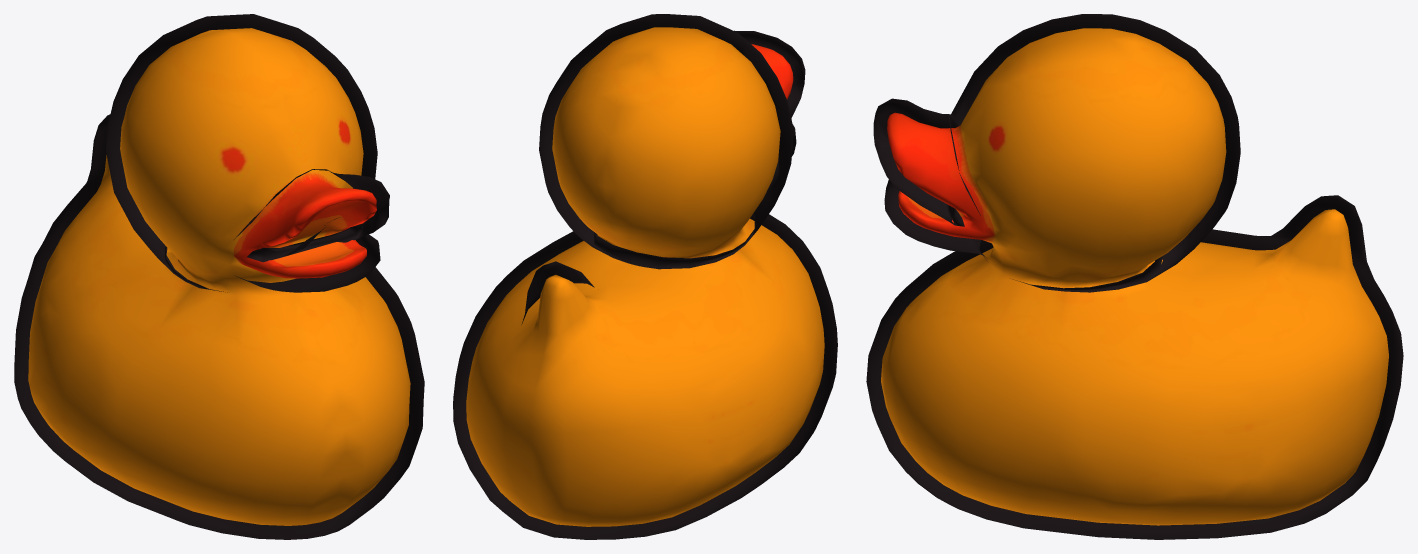
The model's file is SM_Int_RubberDuck.fbx.
3 renders of one model, left to right at view 1: azimuth 30°, elevation 25°; view 2: azimuth 150°, elevation 25°; view 3: azimuth 270°, elevation 25°, orthographic. The views are drawn at different scales.
Parts seen in each view (by area): view 1: SM_Int_RubberDuck; view 2: SM_Int_RubberDuck; view 3: SM_Int_RubberDuck.
Part boxes in pixels (x1,y1,x2,y2): SM_Int_RubberDuck: (14,14,424,539); SM_Int_RubberDuck: (453,14,837,539); SM_Int_RubberDuck: (866,14,1403,539).
Size of the model in its own units: 0.0969 by 0.1272 by 0.1333.
